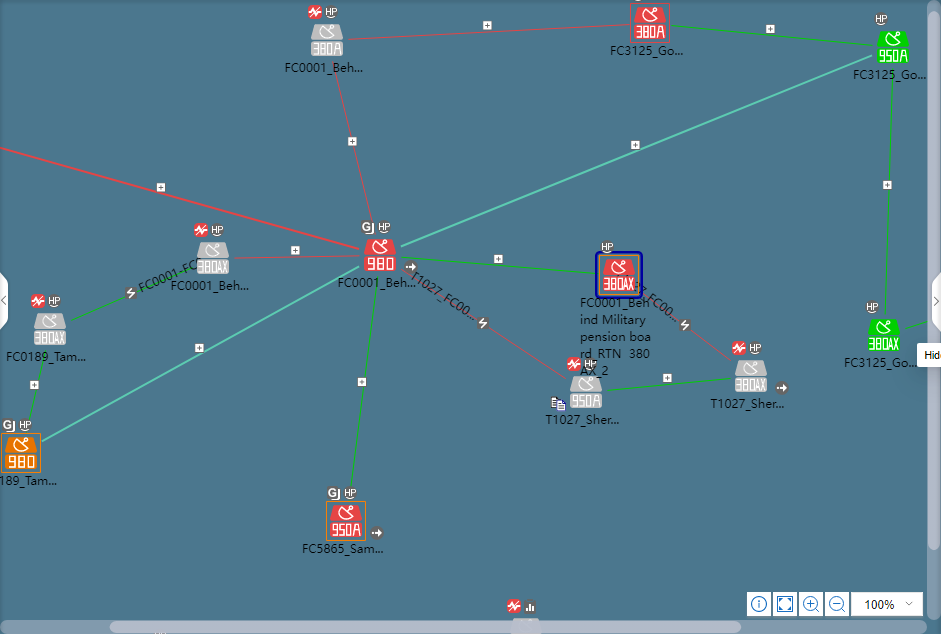Link_Blue: (397, 55, 862, 248), (38, 261, 359, 441)
Link_Green: (68, 267, 187, 323), (350, 273, 384, 467), (425, 255, 594, 277), (713, 26, 878, 48), (603, 373, 737, 395), (885, 67, 895, 216), (26, 349, 46, 417), (903, 320, 922, 329)
Link_Red: (403, 267, 565, 383), (332, 70, 378, 224), (344, 20, 628, 42), (644, 291, 729, 360)
RTN_Gray: (197, 243, 231, 277), (732, 361, 766, 395), (309, 26, 341, 60), (568, 379, 600, 413), (32, 314, 63, 348)
RTN_Green: (879, 32, 913, 66), (867, 320, 901, 354)
RTN_Orange: (3, 432, 43, 477)
RTN_Red: (326, 502, 366, 542), (632, 2, 672, 42), (597, 255, 637, 295), (362, 238, 394, 270)
